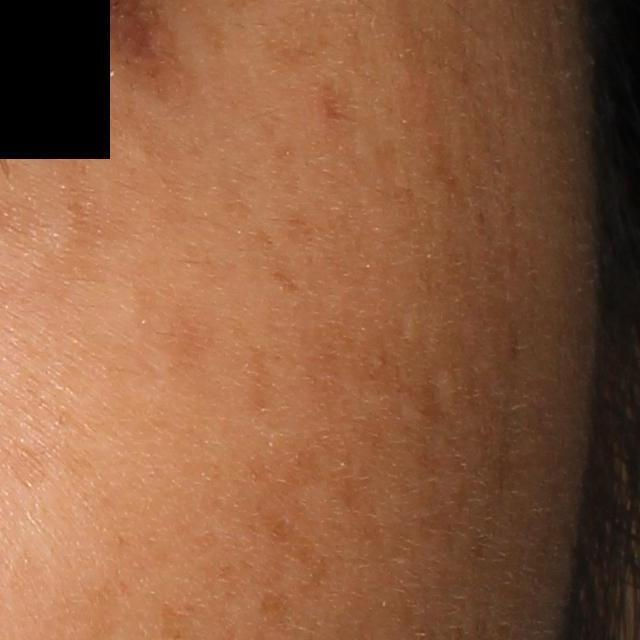melasma: (231, 423, 392, 604), (50, 96, 200, 244), (123, 254, 231, 397), (250, 0, 368, 77), (243, 225, 313, 305), (315, 79, 366, 184), (229, 323, 275, 423), (276, 198, 329, 271), (270, 137, 305, 204)
